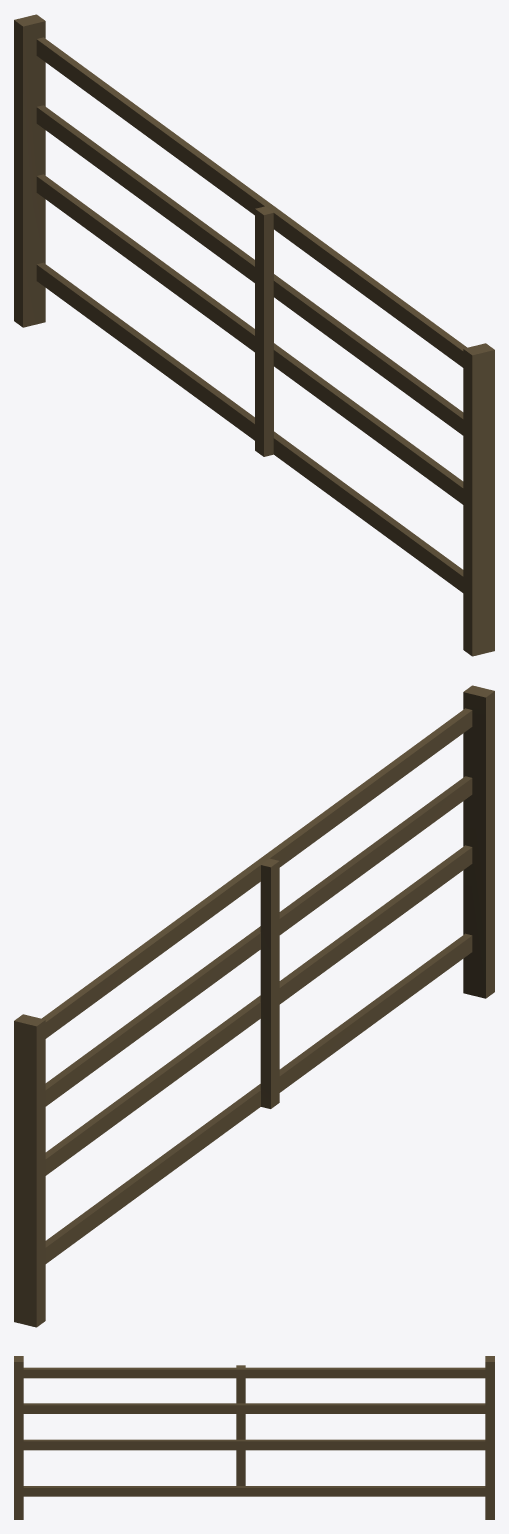
Rendered from Wood_FenceThinTall1.fbx.
The picture shows the model from 3 angles, top to bottom: view 1: azimuth 30°, elevation 25°; view 2: azimuth 150°, elevation 25°; view 3: azimuth 270°, elevation 25°; orthographic projection. The views are drawn at different scales.
Visible parts, largest first — view 1: Wood_FenceThinTall1; view 2: Wood_FenceThinTall1; view 3: Wood_FenceThinTall1.
Boxes of the visible parts, left/top/right/bottom form: Wood_FenceThinTall1: left=14, top=14, right=494, bottom=656; Wood_FenceThinTall1: left=14, top=685, right=494, bottom=1327; Wood_FenceThinTall1: left=14, top=1356, right=494, bottom=1519.
Size of the model in its own units: 0.0103 by 0.1302 by 0.3592.
